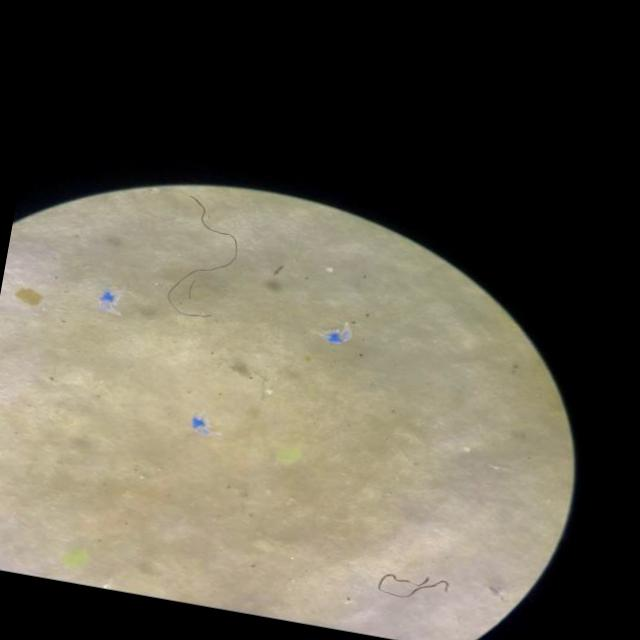fiber: (167, 196, 238, 315), (377, 573, 451, 598)
film: (325, 324, 352, 344), (101, 292, 116, 310), (192, 417, 207, 434)
fragment: (62, 549, 88, 568), (16, 287, 42, 306), (276, 446, 302, 464)
pellet: (327, 266, 333, 272), (463, 447, 470, 452), (266, 389, 272, 394)
